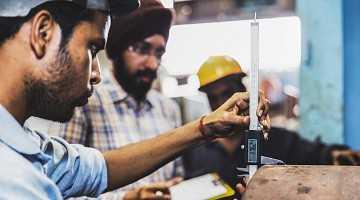helmet: (198, 55, 249, 88)
